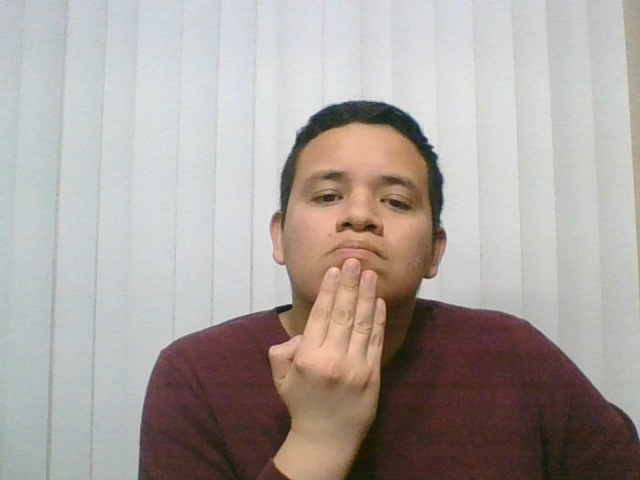Thank you: (237, 247, 428, 454)
